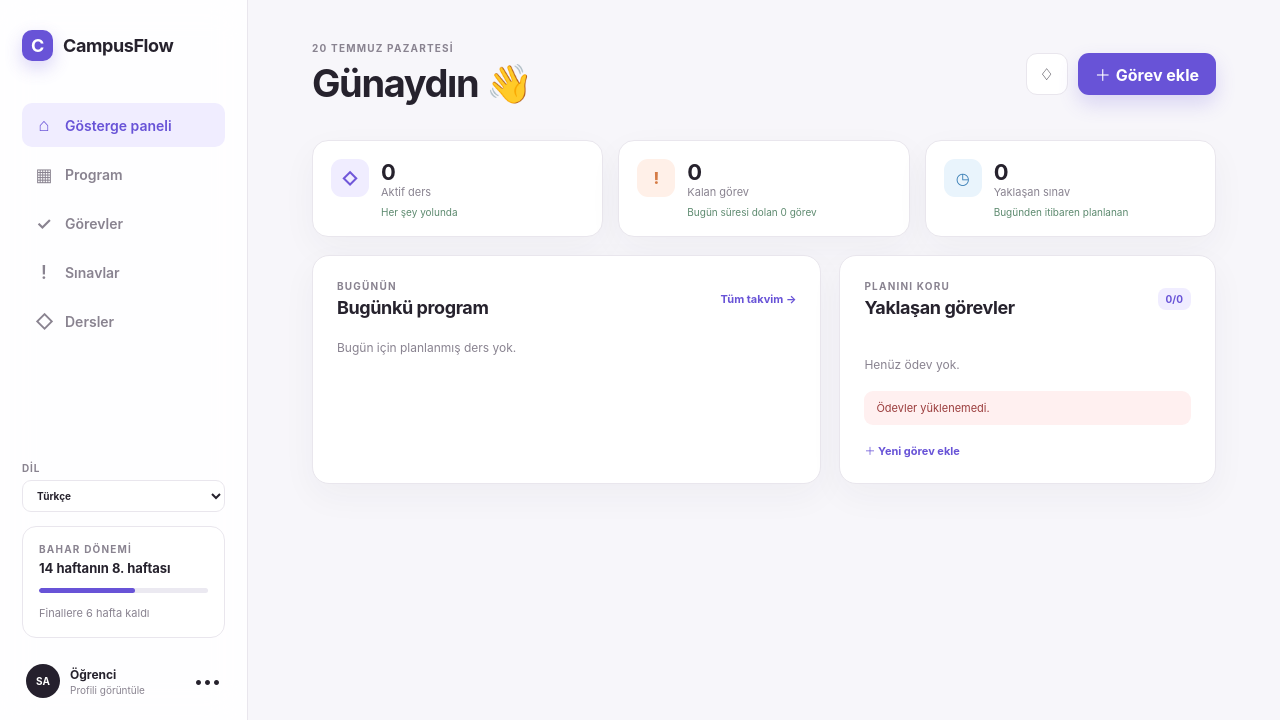
Test: CampusFlow web application › starts in Turkish and persists a language change
Expected: the link "⌂ Gösterge paneli" is shown, [22, 103, 225, 147]
Select "English" in the dropdown labelled "Dil" at coordinates (124, 496), box [22, 480, 225, 512]
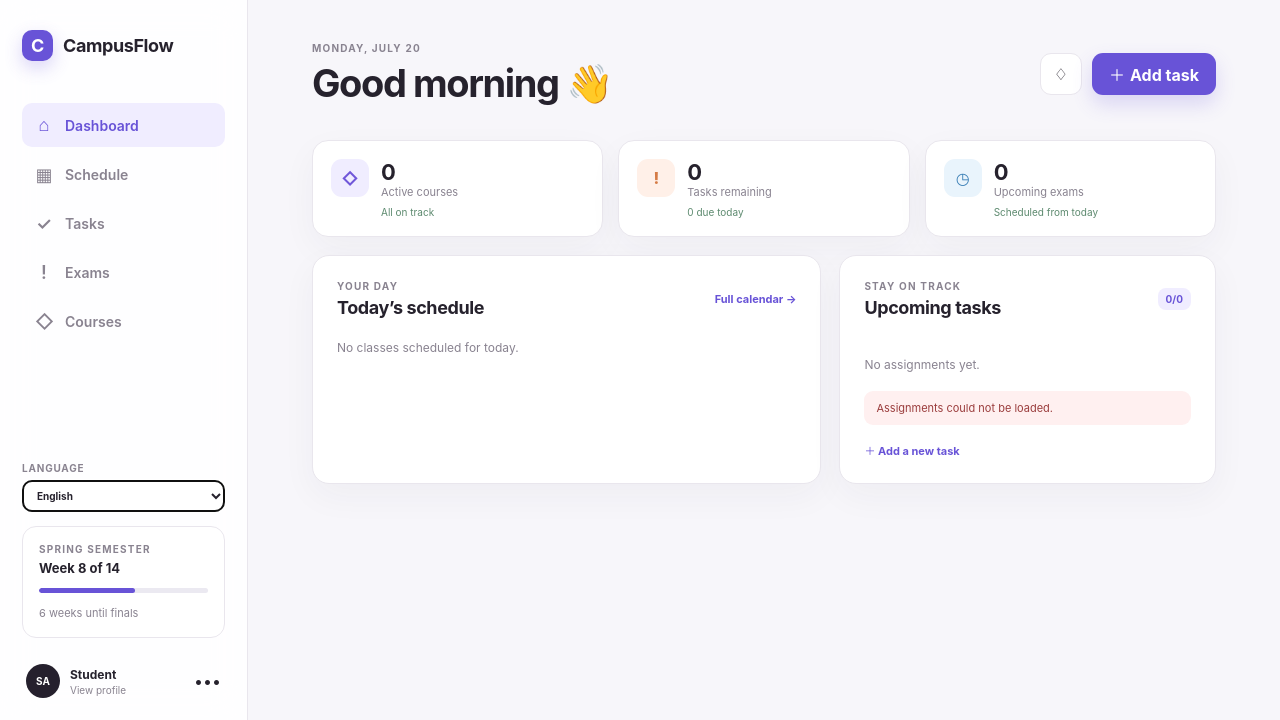
Expected: the link "⌂ Dashboard" is shown, [22, 103, 225, 147]
